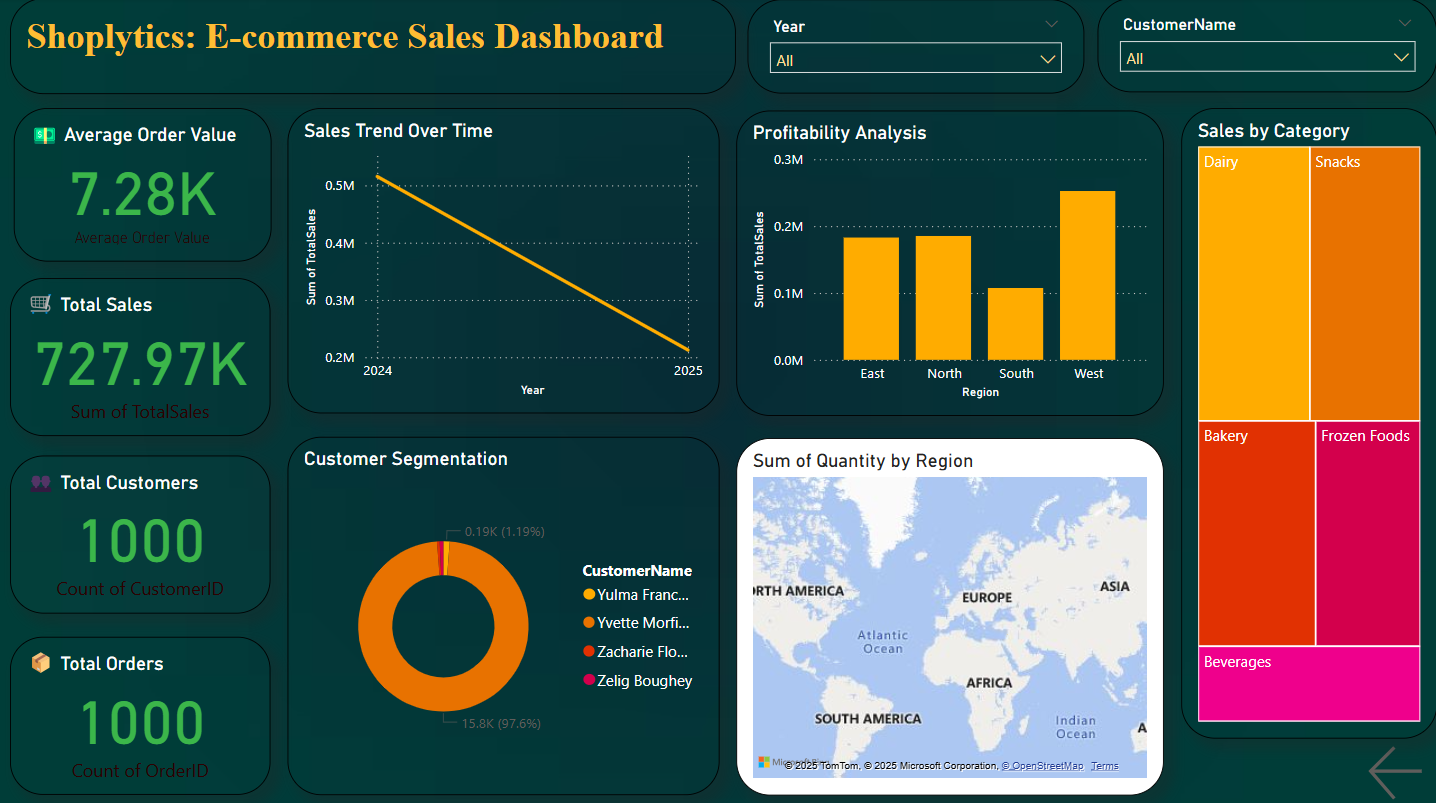

What the dashboard file says about the page in this screenshot:
{"tool":"powerbi","page":{"name":"Page 1","canvas":[1280,720],"ordinal":0},"visuals":[{"type":"actionButton","box":[1213.6,659.7,66.1,60.2],"z":10000},{"type":"card","title":"🛒 Total Sales","fields":{"Values":["E-Commerse Sales Insights Dashboard.TotalSales"]},"box":[8.8,249.8,232.1,141],"z":11000},{"type":"card","title":"👥 Total Customers","fields":{"Values":["E-Commerse Sales Insights Dashboard.CustomerID"]},"box":[8.8,407,232.1,141],"z":12000},{"type":"card","title":"📦 Total Orders","fields":{"Values":["E-Commerse Sales Insights Dashboard.OrderID"]},"box":[8.8,568.6,232.1,141],"z":13000},{"type":"card","title":"💵 Average Order Value","fields":{"Values":["E-Commerse Sales Insights Dashboard.Average Order Value"]},"box":[11.8,98.4,229.2,136.6],"z":14000},{"type":"lineChart","title":"Sales Trend Over Time","fields":{"Category":["E-Commerse Sales Insights Dashboard.OrderDate.Variation.Date Hierarchy.Year","E-Commerse Sales Insights Dashboard.OrderDate.Variation.Date Hierarchy.Month"],"Y":["E-Commerse Sales Insights Dashboard.TotalSales"]},"box":[255.7,98.4,384.9,271.8],"z":15000},{"type":"treemap","title":"Sales by Category","fields":{"Group":["E-Commerse Sales Insights Dashboard.Category"],"Values":["E-Commerse Sales Insights Dashboard.TotalSales"]},"box":[1052,98.4,227.7,561.3],"z":16000},{"type":"clusteredColumnChart","title":"Profitability Analysis","fields":{"Category":["E-Commerse Sales Insights Dashboard.Region"],"Y":["E-Commerse Sales Insights Dashboard.TotalSales"]},"box":[655.3,99.9,380.5,271.8],"z":17000},{"type":"donutChart","title":"Customer Segmentation","fields":{"Category":["E-Commerse Sales Insights Dashboard.CustomerName"],"Y":["E-Commerse Sales Insights Dashboard.TotalSales"]},"box":[255.7,390.8,384.9,318.8],"z":18000},{"type":"slicer","fields":{"Values":["E-Commerse Sales Insights Dashboard.OrderDate.Variation.Date Hierarchy.Year"]},"box":[665.6,1.5,299.7,83.7],"z":19000},{"type":"slicer","fields":{"Values":["E-Commerse Sales Insights Dashboard.CustomerName"]},"box":[977.1,0,302.7,83.7],"z":20000},{"type":"textbox","box":[8.8,0,646.5,85.2],"z":22000},{"type":"filledMap","fields":{"Category":["E-Commerse Sales Insights Dashboard.Region"]},"box":[655.8,391.8,381,318.4],"z":23000}]}

Visuals, with their boxes in screenshot pixels (x1, y1, x2, y2), scaled from the page's 1280x720 canvas onto the 1436x803 screenshot:
actionButton: crop(1362, 736, 1435, 802)
"🛒 Total Sales" card: crop(10, 279, 270, 436)
"👥 Total Customers" card: crop(10, 454, 270, 611)
"📦 Total Orders" card: crop(10, 634, 270, 791)
"💵 Average Order Value" card: crop(13, 110, 270, 262)
"Sales Trend Over Time" lineChart: crop(287, 110, 719, 413)
"Sales by Category" treemap: crop(1180, 110, 1435, 736)
"Profitability Analysis" clusteredColumnChart: crop(735, 111, 1162, 415)
"Customer Segmentation" donutChart: crop(287, 436, 719, 791)
slicer - E-Commerse Sales Insights Dashboard.OrderDate.Variation.Date Hierarchy.Year: crop(747, 2, 1083, 95)
slicer - E-Commerse Sales Insights Dashboard.CustomerName: crop(1096, 0, 1435, 93)
textbox: crop(10, 0, 735, 95)
filledMap - E-Commerse Sales Insights Dashboard.Region: crop(736, 437, 1163, 792)
